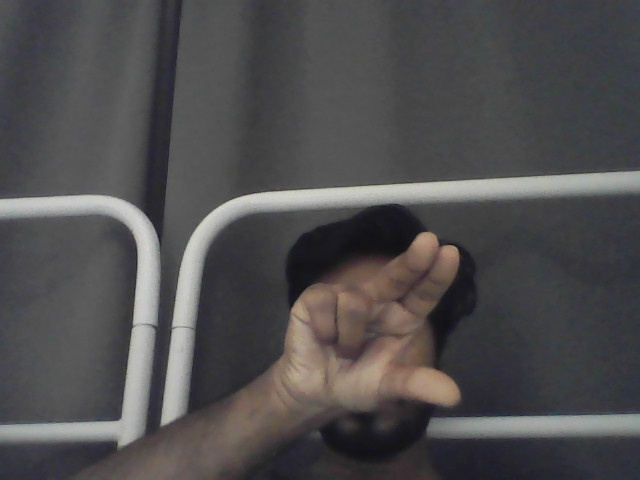no: (285, 230, 464, 422)
